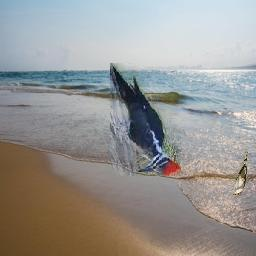Cuckoo: (232, 151, 248, 195)
Woodpecker: (111, 64, 182, 177)
